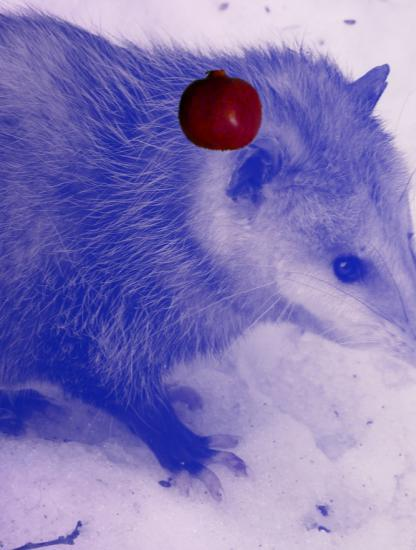Pomegranate: (176, 67, 263, 154)
